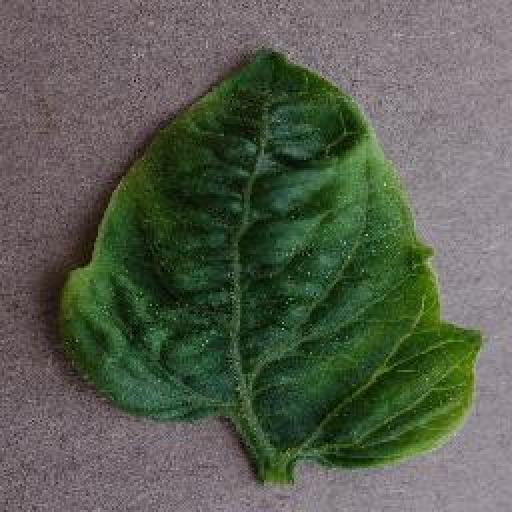disease_tomato: (59, 47, 487, 464)
